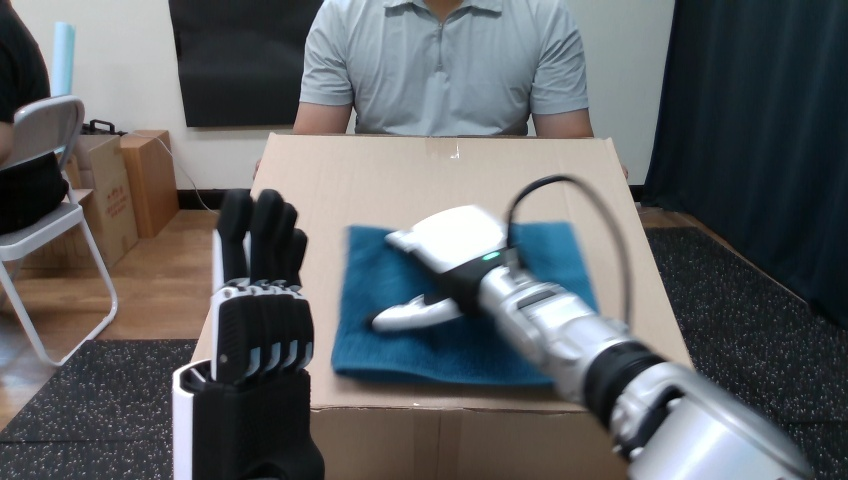left robot hand: (367, 175, 811, 478), (172, 189, 323, 478)
